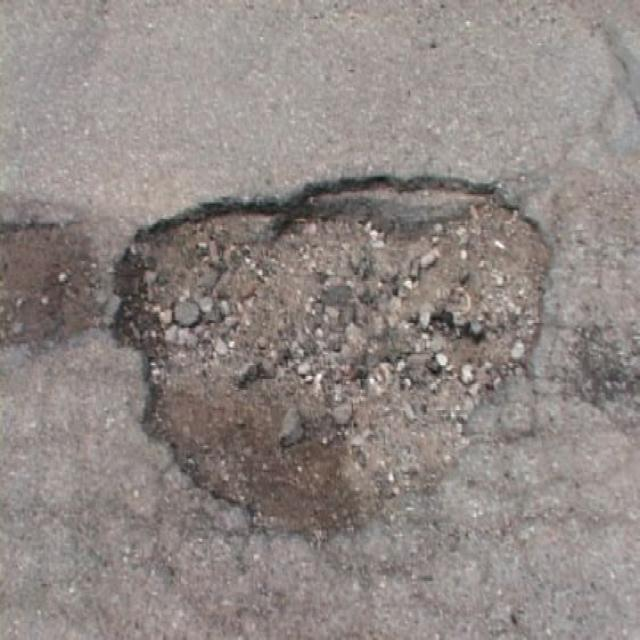pothole: (106, 168, 557, 540)
